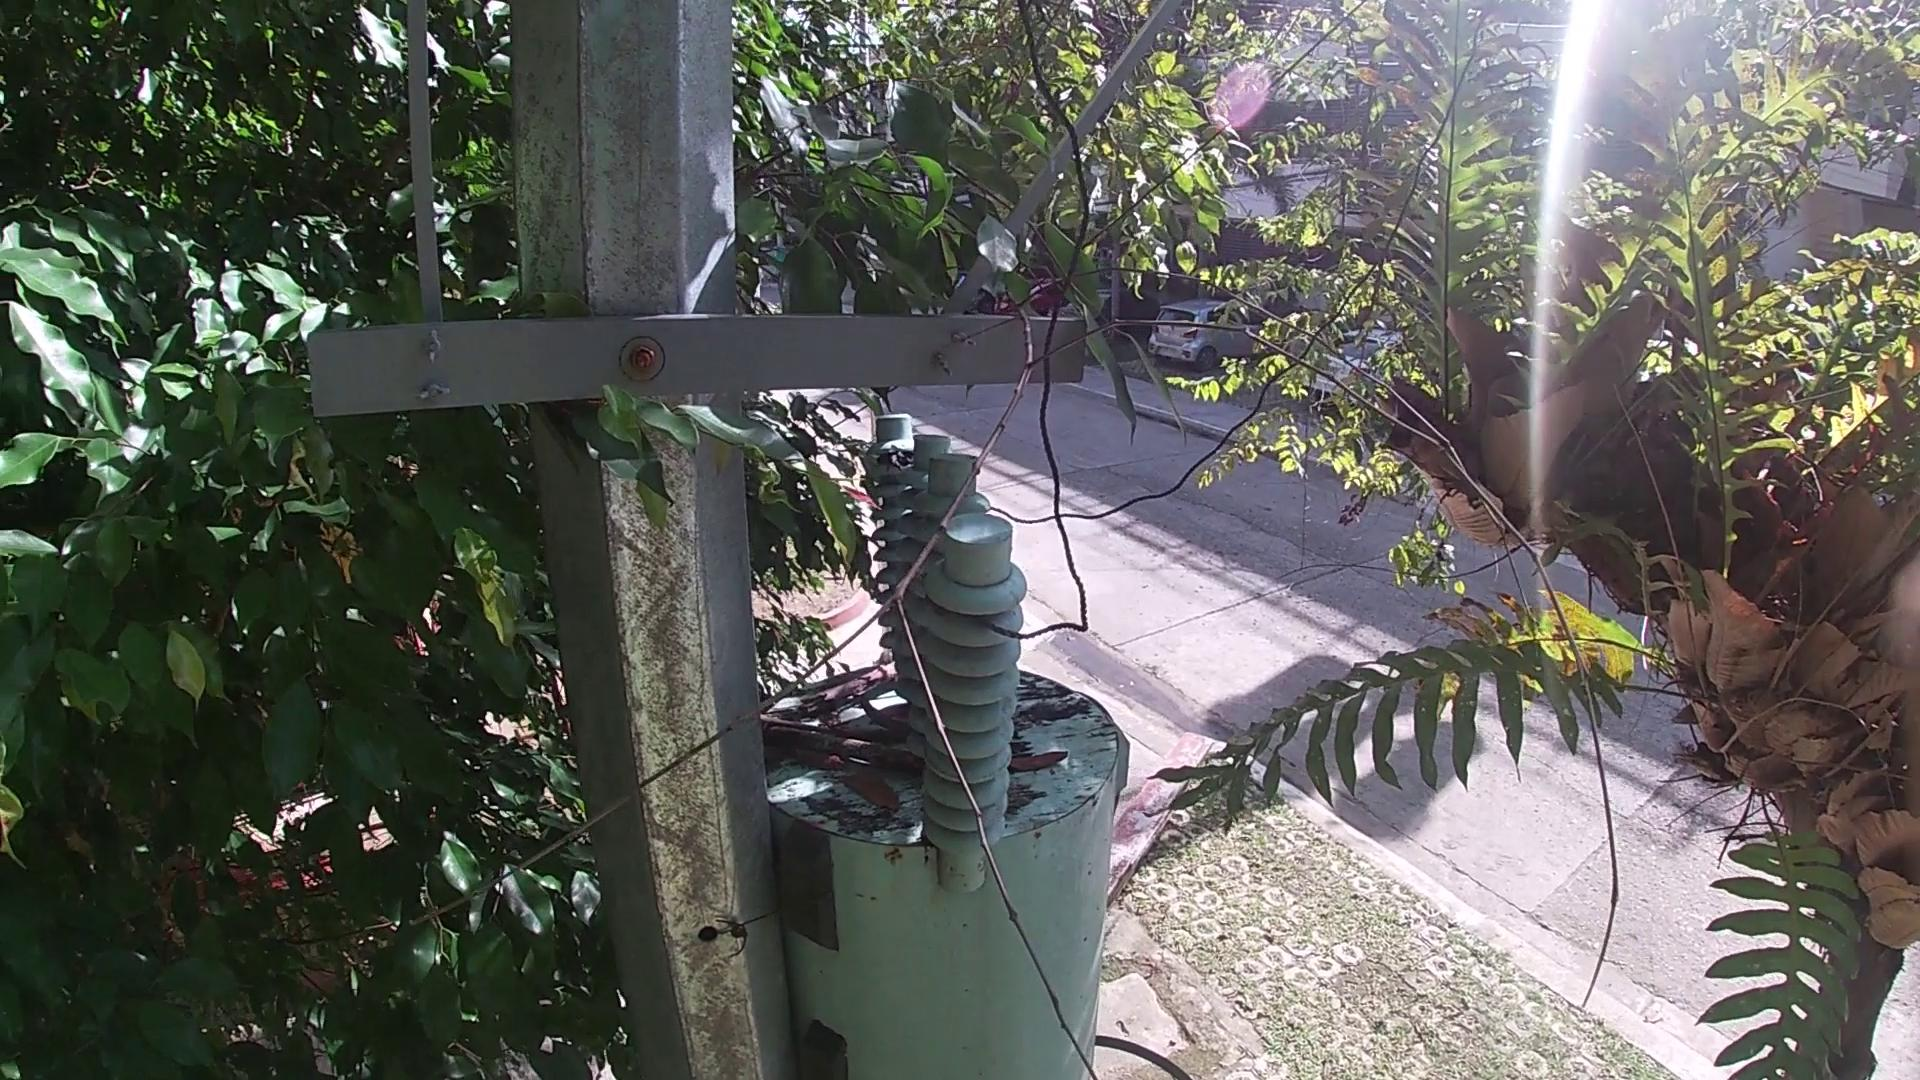leaf: (836, 767, 902, 815), (1005, 749, 1071, 775), (791, 749, 849, 771)
tree branch: (258, 252, 1633, 1077), (762, 719, 926, 777), (796, 659, 899, 723)
